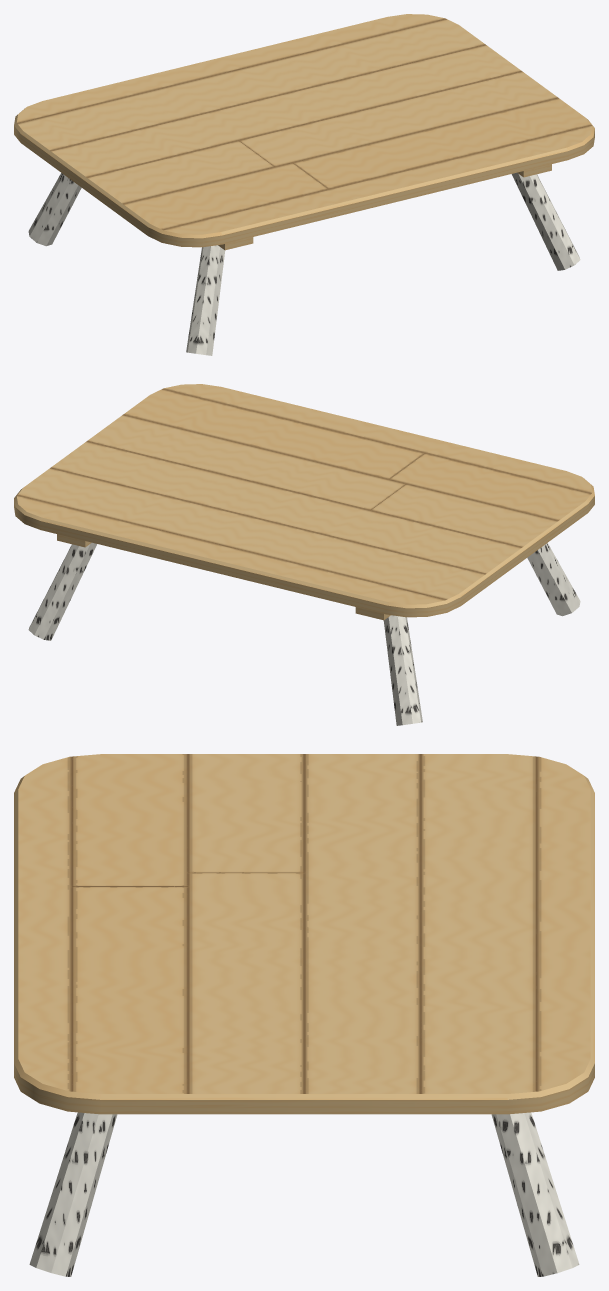
File: Table_Birch.fbx
The picture shows the model from 3 angles, top to bottom: view 1: azimuth 30°, elevation 25°; view 2: azimuth 150°, elevation 25°; view 3: azimuth 270°, elevation 25°; orthographic projection. The views are drawn at different scales.
Parts seen in each view (by area): view 1: Table_Birch; view 2: Table_Birch; view 3: Table_Birch.
Part boxes in pixels (box(x1,y1,x2,y2)): Table_Birch: box(14, 14, 594, 355); Table_Birch: box(14, 384, 594, 725); Table_Birch: box(14, 754, 594, 1276).
Bounding box in the file's own units: 5.6 × 1.6 × 4.
Materials: 1 (1 with a texture image).
